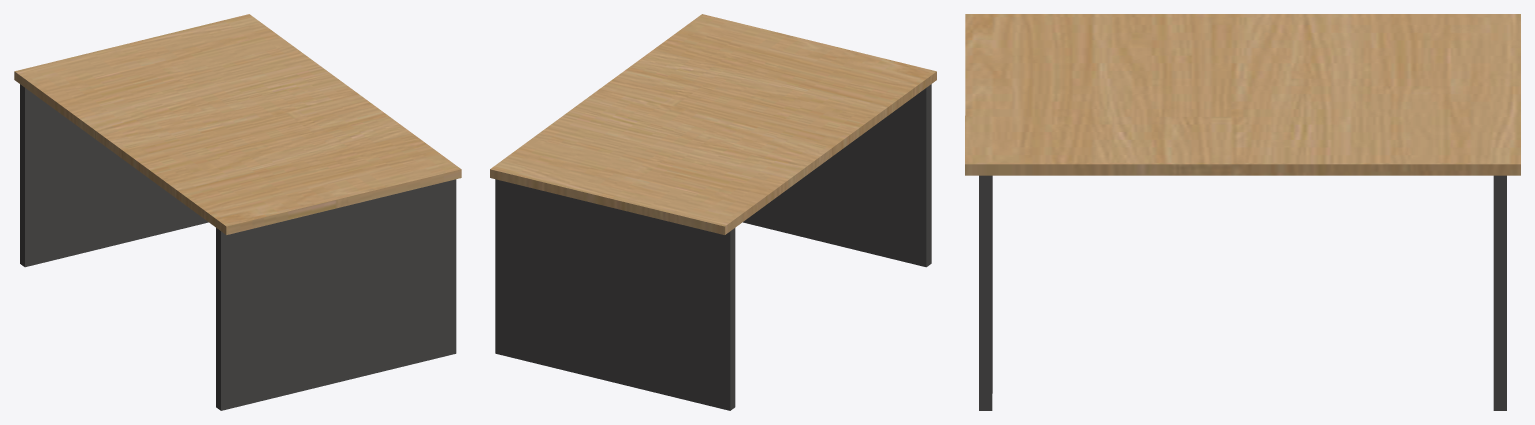
Rendered from Table.FBX.
The picture shows the model from 3 angles, left to right: view 1: azimuth 30°, elevation 25°; view 2: azimuth 150°, elevation 25°; view 3: azimuth 270°, elevation 25°; orthographic projection. The views are drawn at different scales.
Parts seen in each view (by area): view 1: Table; view 2: Table; view 3: Table.
Part boxes in pixels (x1,y1,x2,y2): Table: (14,14,461,410); Table: (490,14,936,410); Table: (965,14,1520,410).
Size of the model in its own units: 2.2 by 1.68 by 3.44.
